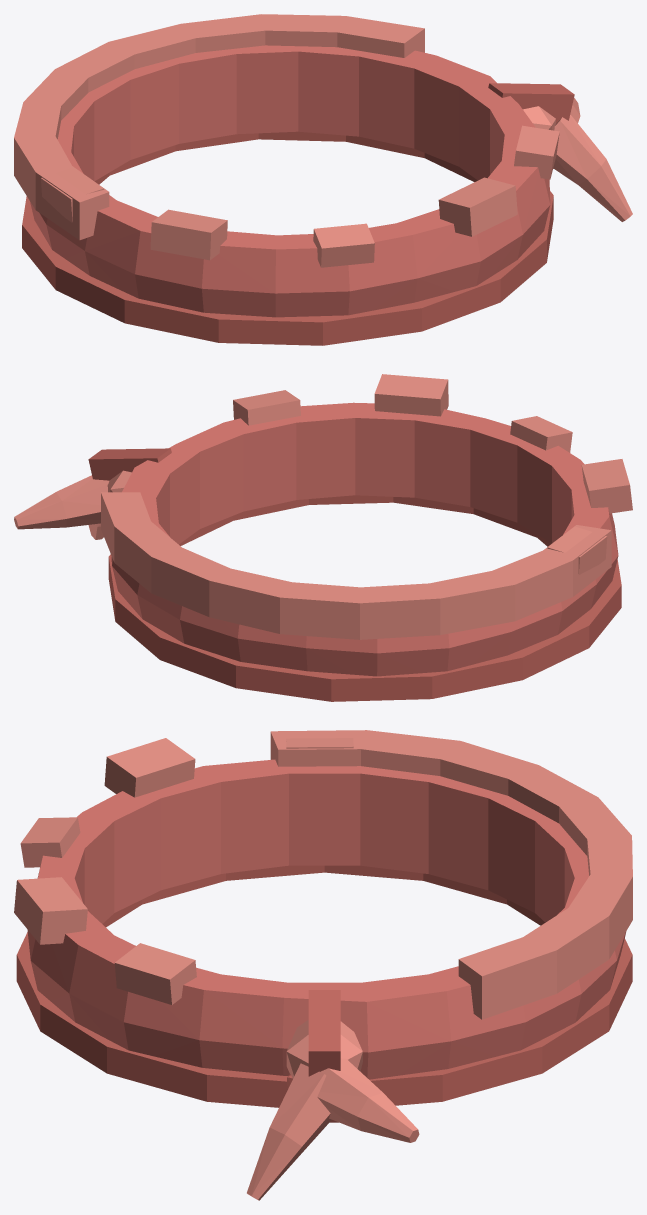
Rendered from RedBandana.fbx.
3 views of the same model, one above another, from view 1: azimuth 30°, elevation 25°; view 2: azimuth 150°, elevation 25°; view 3: azimuth 270°, elevation 25° (orthographic). The views are drawn at different scales.
Visible parts, largest first — view 1: RedBandana.Band, RedBandana.BandFolds, RedBandana.LowerHem, RedBandana.Knot, RedBandana.KnotShadow; view 2: RedBandana.Band, RedBandana.BandFolds, RedBandana.LowerHem, RedBandana.Knot, RedBandana.KnotShadow; view 3: RedBandana.Band, RedBandana.BandFolds, RedBandana.LowerHem, RedBandana.Knot, RedBandana.KnotShadow.
Boxes of the visible parts, box(x1,y1,x2,y2) form: RedBandana.Band: box(30, 45, 550, 317); RedBandana.BandFolds: box(14, 14, 559, 267); RedBandana.LowerHem: box(22, 131, 553, 345); RedBandana.Knot: box(523, 97, 632, 221); RedBandana.KnotShadow: box(488, 83, 574, 168); RedBandana.Band: box(111, 402, 618, 676); RedBandana.BandFolds: box(101, 374, 632, 639); RedBandana.LowerHem: box(108, 495, 621, 701); RedBandana.Knot: box(14, 470, 131, 539); RedBandana.KnotShadow: box(88, 448, 171, 480); RedBandana.Band: box(27, 759, 626, 1079); RedBandana.BandFolds: box(14, 730, 632, 1019); RedBandana.LowerHem: box(16, 865, 632, 1107); RedBandana.Knot: box(247, 1019, 419, 1200); RedBandana.KnotShadow: box(287, 990, 340, 1122).
Size of the model in its own units: 1.91 by 0.495 by 1.58.
